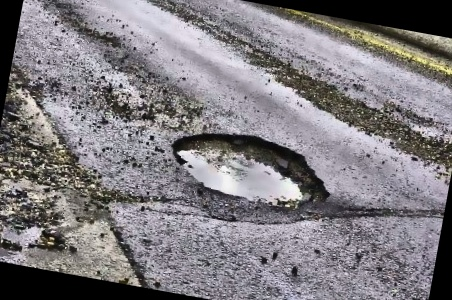pothole: (162, 118, 341, 215)
